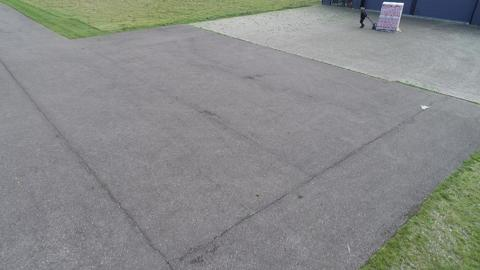RockwoolPallet: (377, 1, 405, 33)
